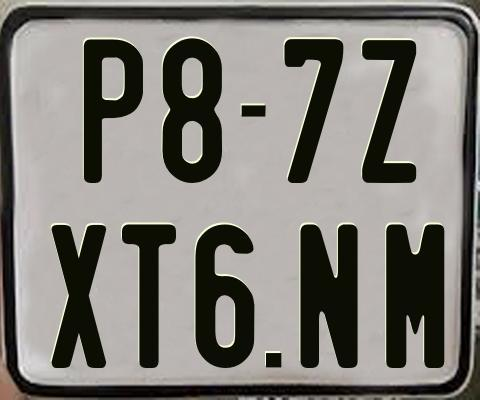6: (195, 225, 260, 370)
7: (284, 38, 346, 182)
8: (162, 36, 222, 183)
M: (383, 223, 448, 368)
N: (297, 223, 361, 371)
P: (83, 39, 147, 186)
T: (119, 224, 175, 373)
X: (50, 224, 107, 371)
Z: (360, 38, 414, 181)
